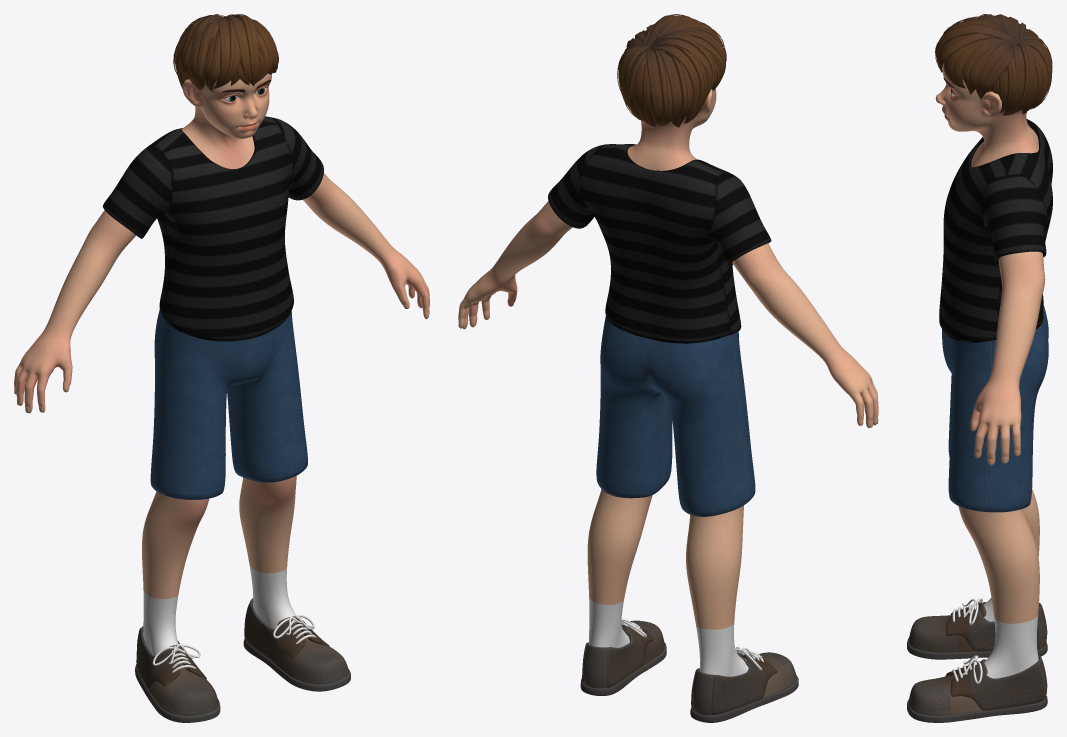
Rendered from fhc_crying_child.glb.
3 renders of one model, left to right at view 1: azimuth 30°, elevation 25°; view 2: azimuth 150°, elevation 25°; view 3: azimuth 270°, elevation 25°, orthographic.
Visible parts, largest first — view 1: TShirt_Cube.018, Shorts_Cube.017, Legs_Cube.004, Shoes_Cube.019, ArmR_Cube.002, MaleBase_Cube.005, ArmL_Cube.003, Hair1_NurbsPath.002, Hair2_NurbsPath.001, Laces_BezierCurve.001; view 2: TShirt_Cube.018, Shorts_Cube.017, Legs_Cube.004, Shoes_Cube.019, Hair1_NurbsPath.002, ArmR_Cube.002, ArmL_Cube.003, MaleBase_Cube.005, Hair3_NurbsPath.003; view 3: TShirt_Cube.018, Shorts_Cube.017, Shoes_Cube.019, Legs_Cube.004, ArmL_Cube.003, Hair3_NurbsPath.003, MaleBase_Cube.005, Hair2_NurbsPath.001, Hair1_NurbsPath.002, Laces_BezierCurve.001.
Part boxes in pixels (x1,y1,x2,y2): TShirt_Cube.018: [102, 116, 323, 341]; Shorts_Cube.017: [150, 309, 307, 499]; Legs_Cube.004: [142, 476, 296, 655]; Shoes_Cube.019: [135, 598, 350, 722]; ArmR_Cube.002: [14, 210, 135, 413]; MaleBase_Cube.005: [181, 73, 271, 168]; ArmL_Cube.003: [303, 173, 429, 319]; Hair1_NurbsPath.002: [173, 14, 272, 91]; Hair2_NurbsPath.001: [224, 14, 274, 86]; Laces_BezierCurve.001: [152, 615, 316, 672]; TShirt_Cube.018: [548, 144, 771, 343]; Shorts_Cube.017: [596, 316, 755, 516]; Legs_Cube.004: [587, 489, 748, 676]; Shoes_Cube.019: [580, 620, 798, 722]; Hair1_NurbsPath.002: [629, 19, 726, 127]; ArmR_Cube.002: [458, 243, 878, 427]; ArmL_Cube.003: [458, 201, 572, 329]; MaleBase_Cube.005: [627, 89, 716, 170]; Hair3_NurbsPath.003: [617, 24, 678, 127]; TShirt_Cube.018: [939, 119, 1052, 342]; Shorts_Cube.017: [942, 304, 1048, 512]; Shoes_Cube.019: [907, 602, 1047, 722]; Legs_Cube.004: [958, 489, 1039, 678]; ArmL_Cube.003: [970, 251, 1045, 465]; Hair3_NurbsPath.003: [947, 29, 1051, 115]; MaleBase_Cube.005: [935, 61, 1038, 167]; Hair2_NurbsPath.001: [935, 19, 1013, 72]; Hair1_NurbsPath.002: [943, 14, 1052, 106]; Laces_BezierCurve.001: [952, 598, 982, 683].
Bounding box in the file's own units: 0.7772 × 1.2 × 0.2413.
Materials: 13 (7 with a texture image).
